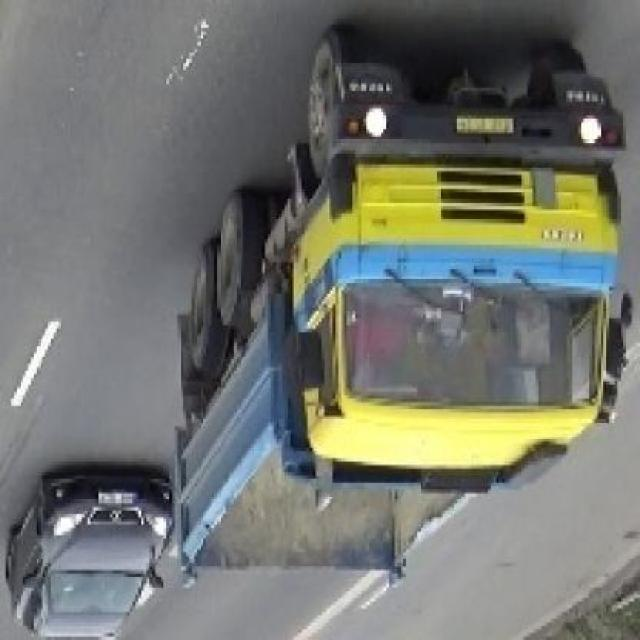truck: (162, 29, 639, 596)
